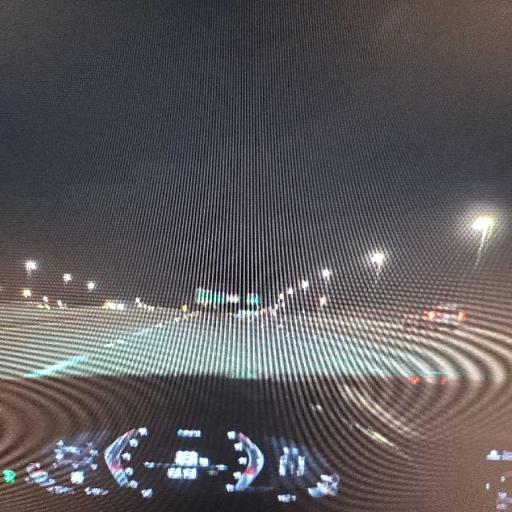car: (404, 304, 467, 332)
